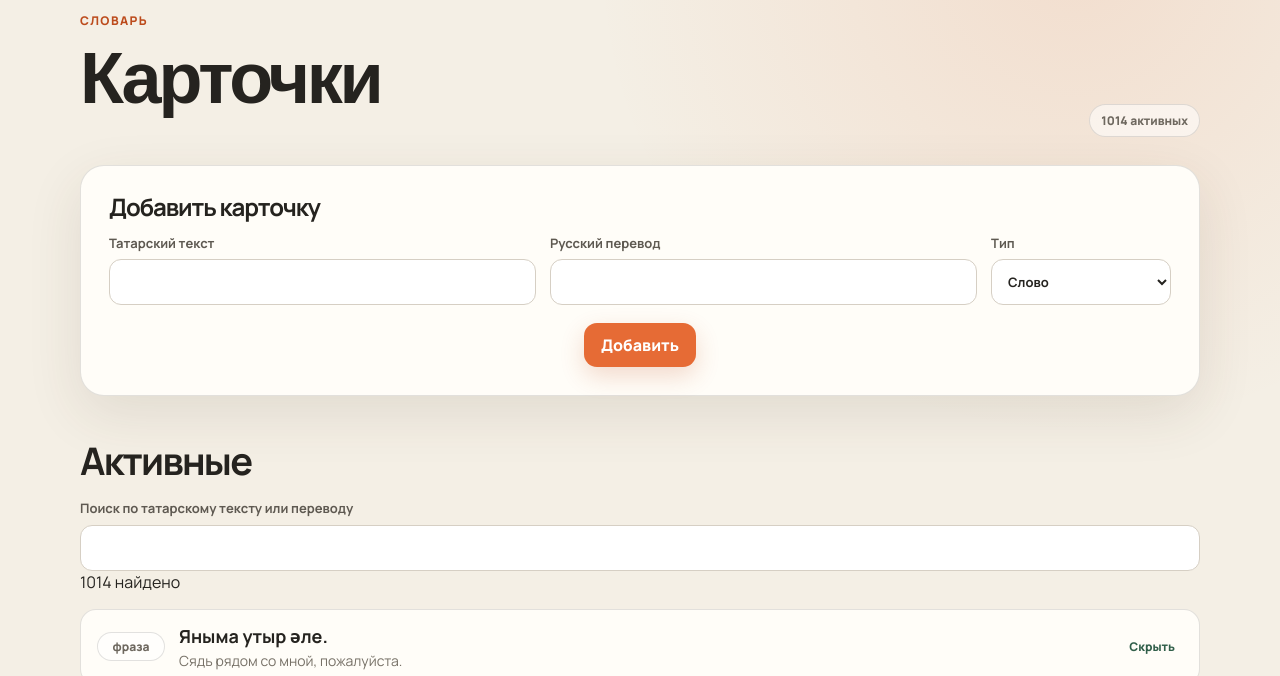
Test: CatalogPage › hides and restores a built-in card
Click the button "Скрыть" at (1152, 647), box [1121,625,1183,669]
(page scrolled)
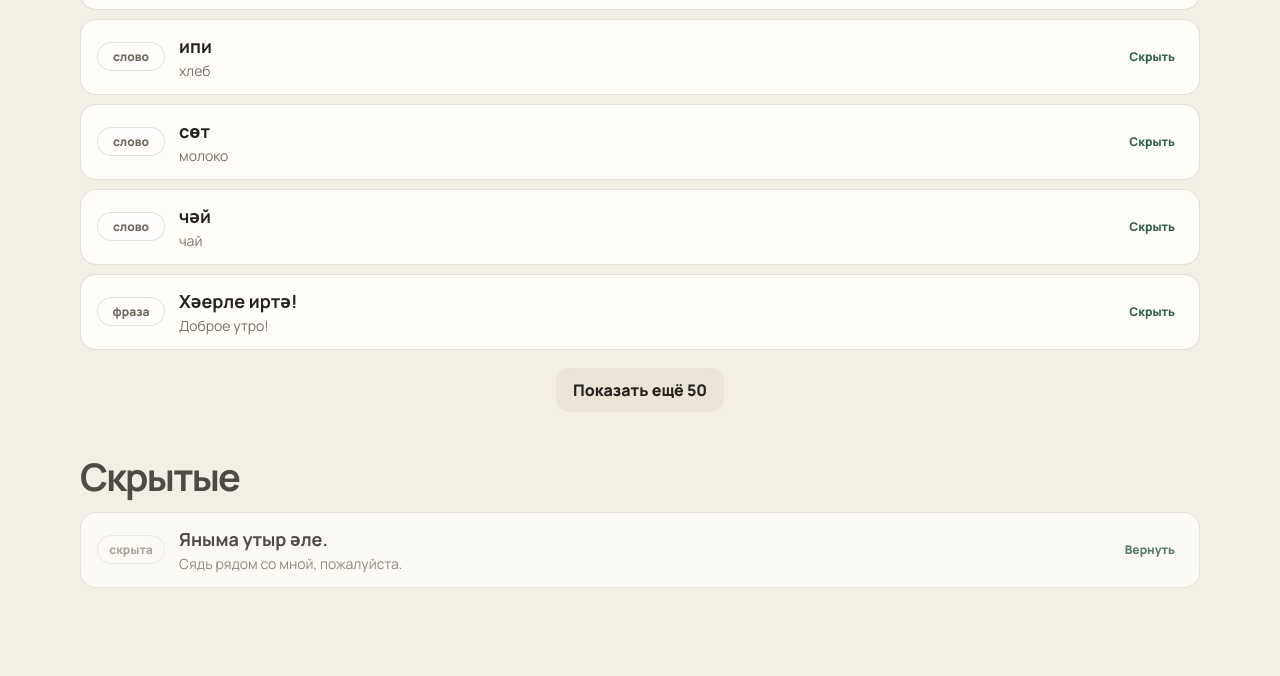
Now the button "Вернуть" is shown
Click the button "Вернуть" at (1150, 550), box [1117,528,1183,572]
(page scrolled)
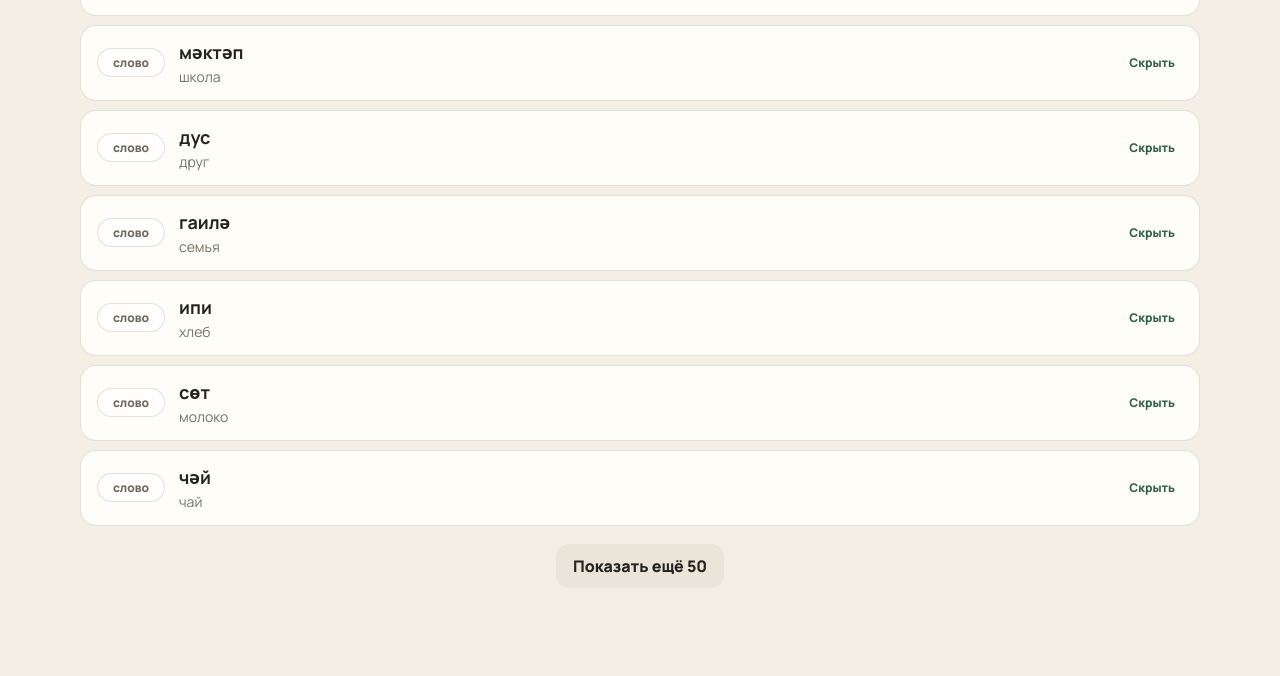
Now the button "Вернуть" is gone
